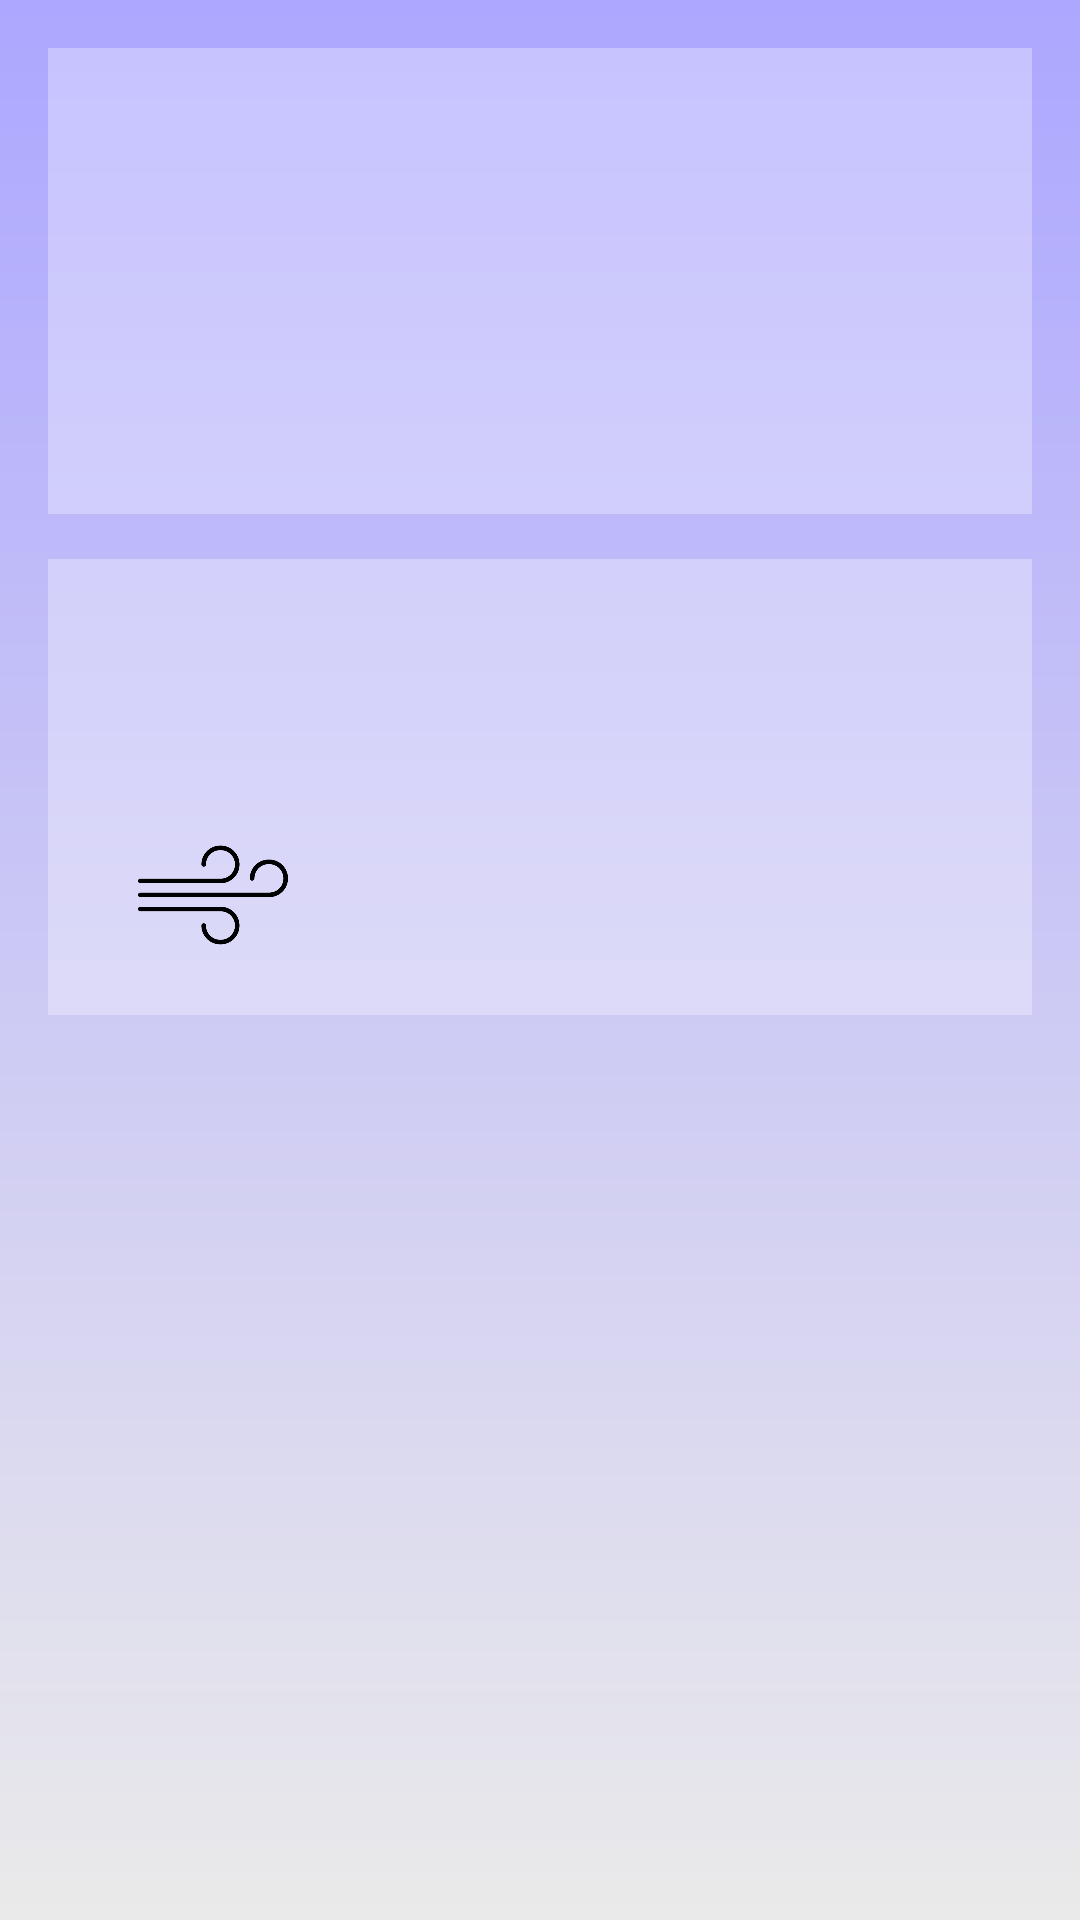

Icon bounding boxes for this 1080x1920 phone screenshot, format (x1, y1, x2, y2):
wind: (138, 845, 288, 945)
